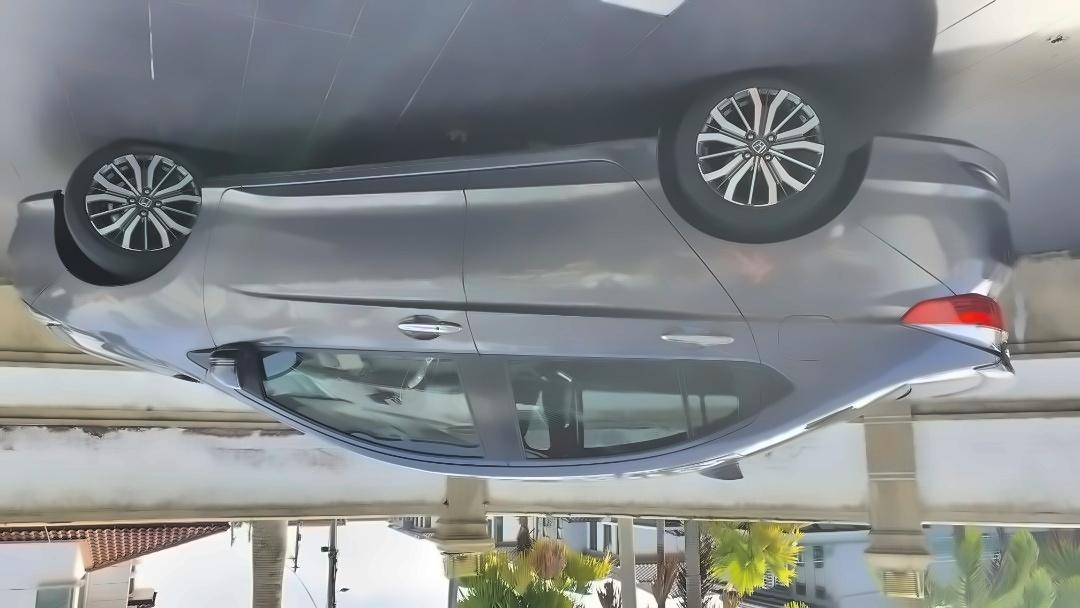Driver-s door - -F-R-: (200, 147, 500, 487)
Fender - -F-R-: (62, 155, 241, 389)
Fender - -R-R-: (642, 117, 938, 436)
Front bumper: (4, 187, 99, 321)
Passenger-s door - -R-R-: (446, 121, 776, 487)
Rear bumper: (825, 115, 1044, 302)
Rear light - -R-: (901, 291, 1012, 376)
Side bumper - -R-: (199, 121, 666, 237)
Side mirror - -R-: (191, 334, 255, 401)
